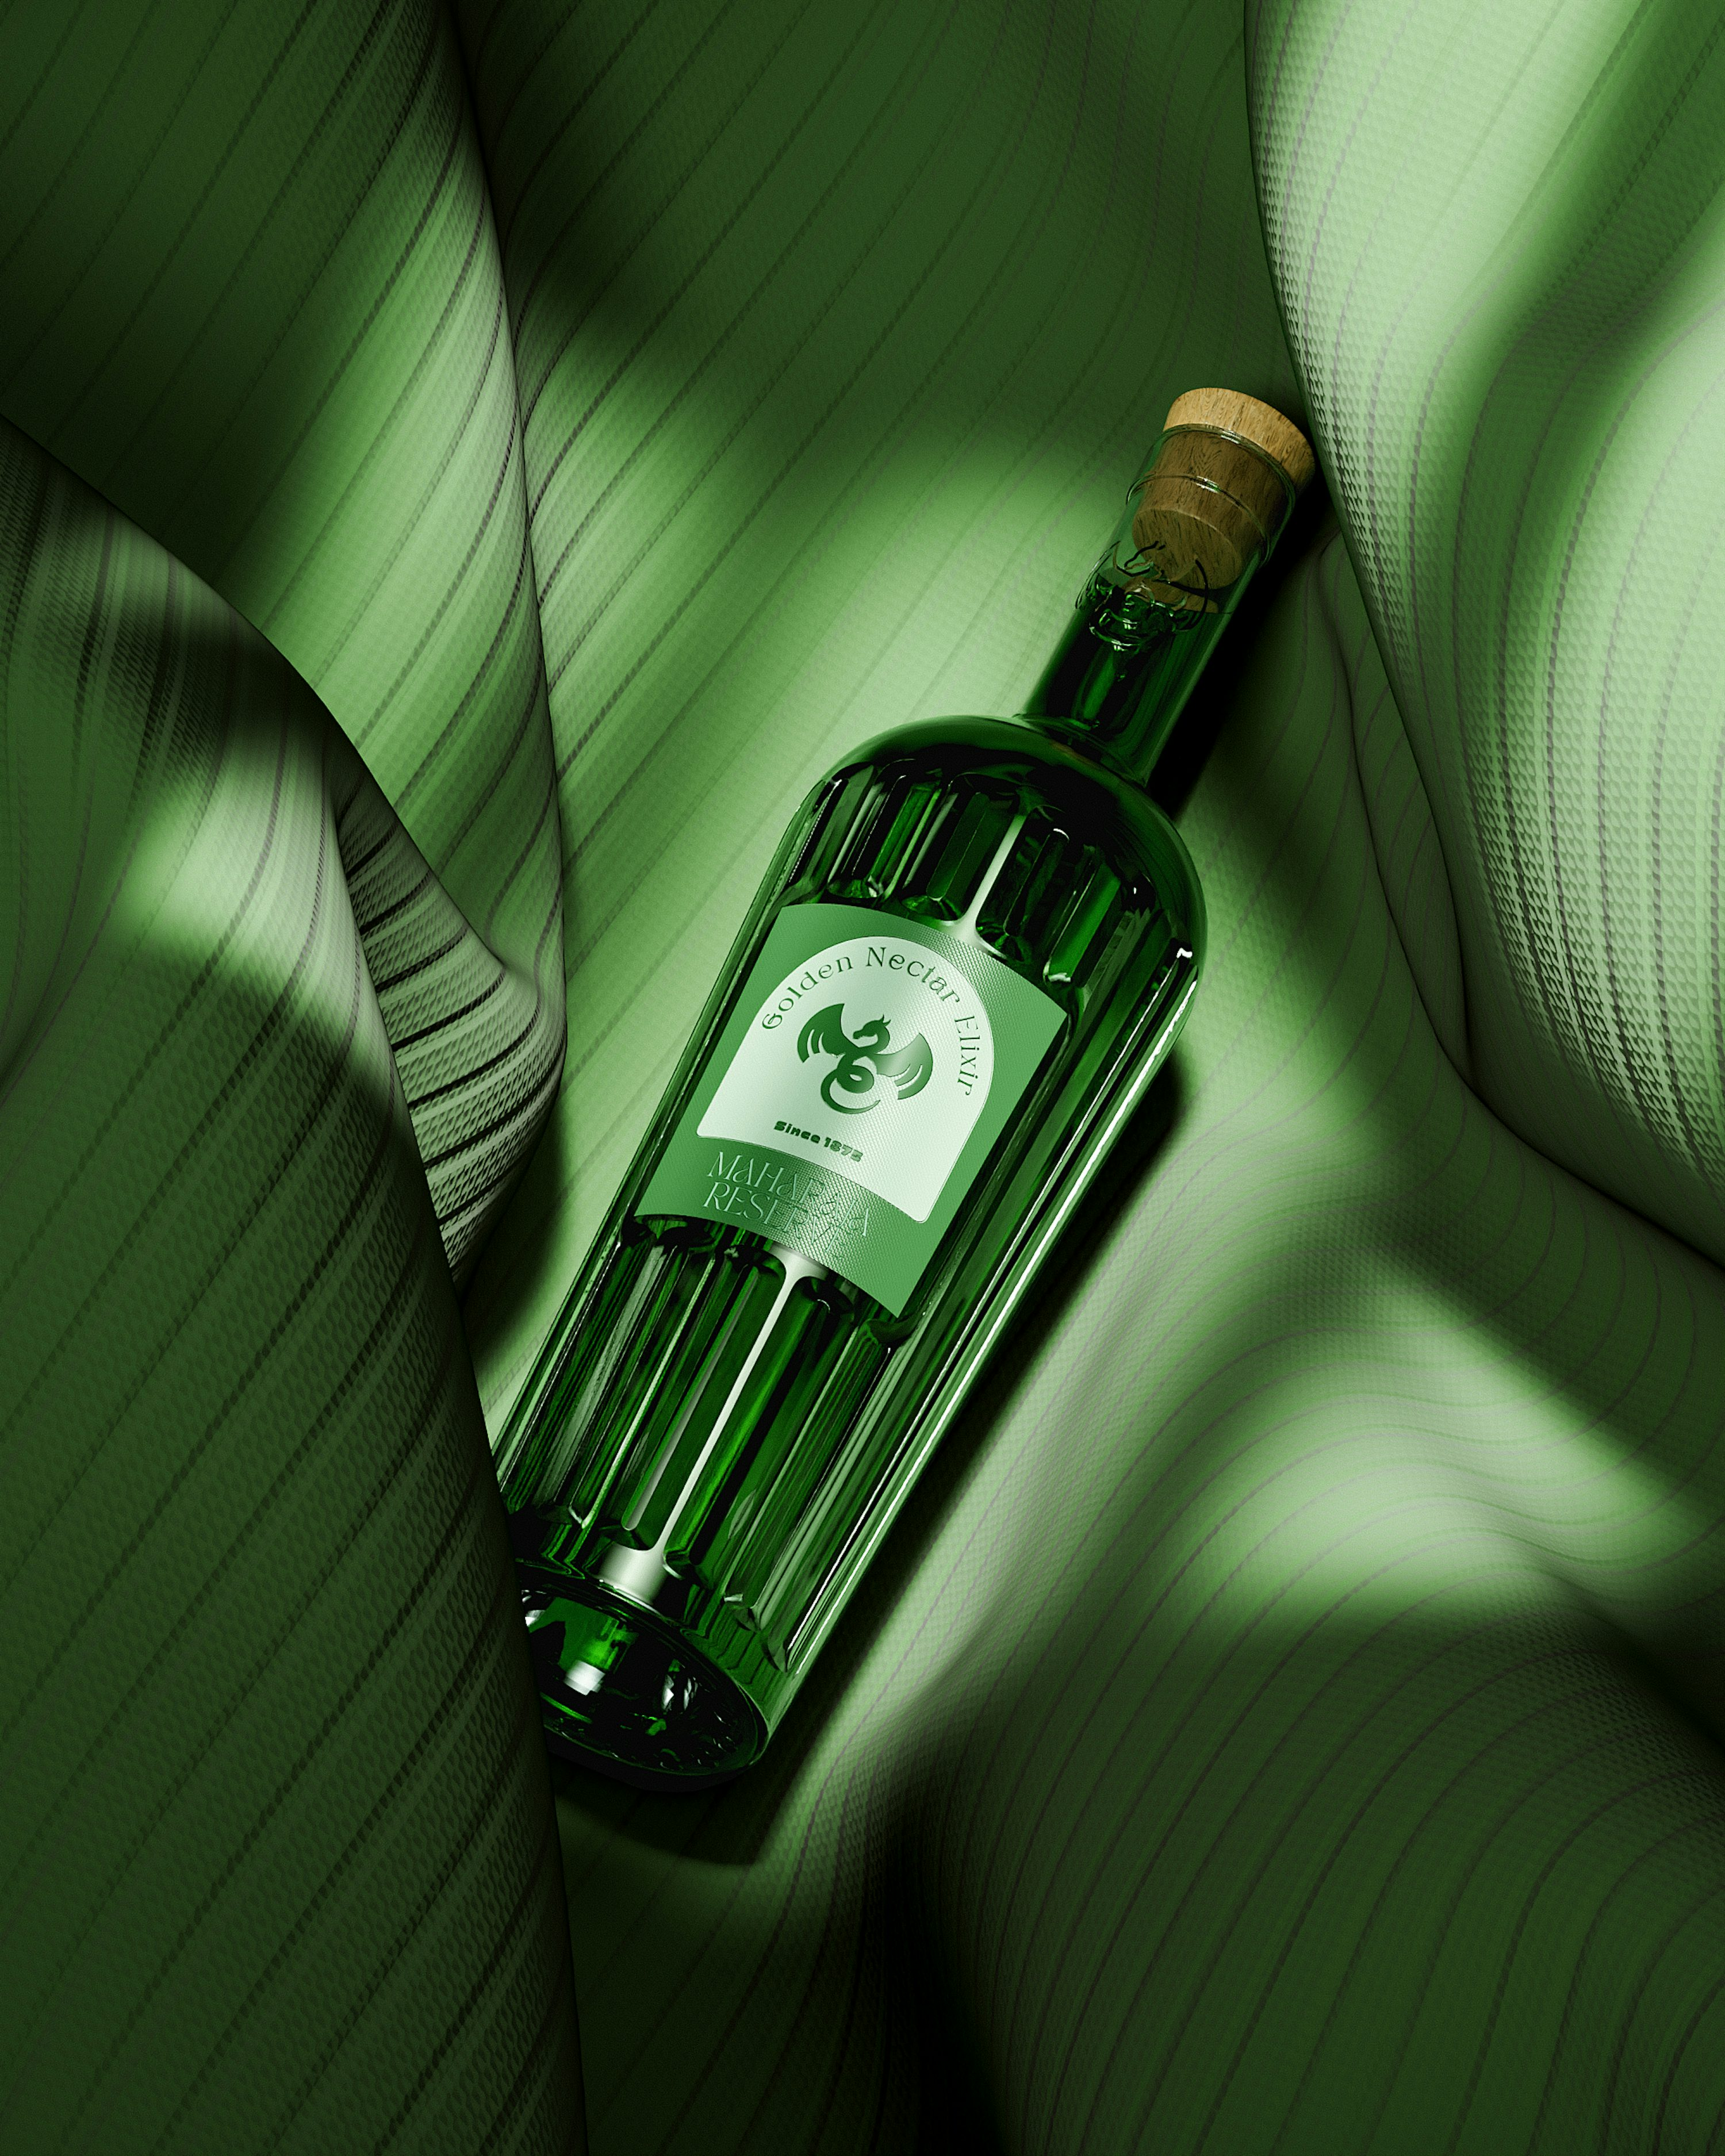glass_bottle: (481, 329, 1320, 1811)
